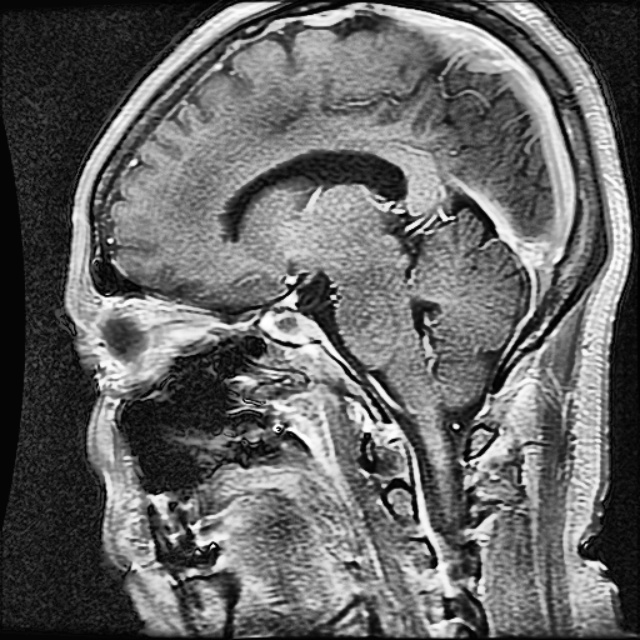Pituitary: (260, 310, 318, 340)
